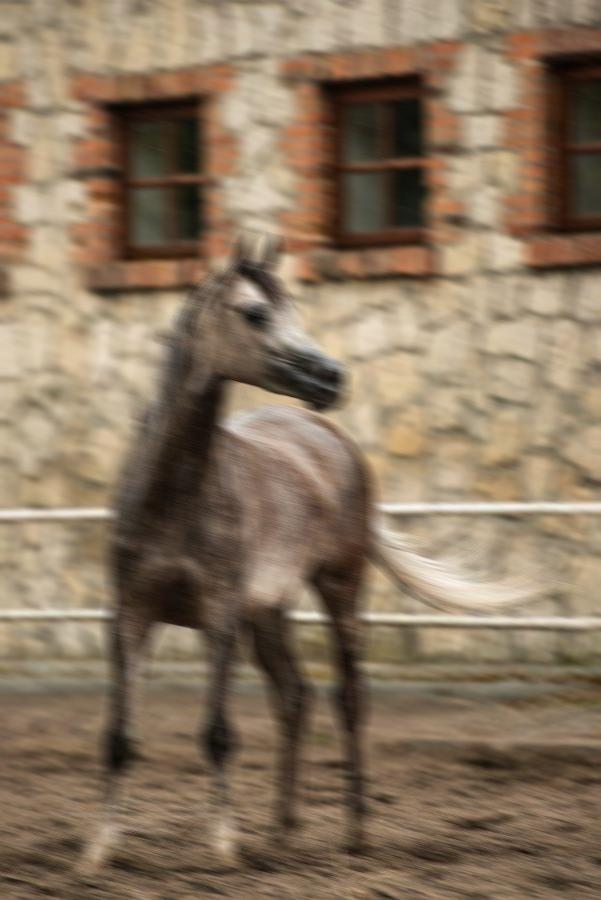horse: (73, 230, 578, 876)
